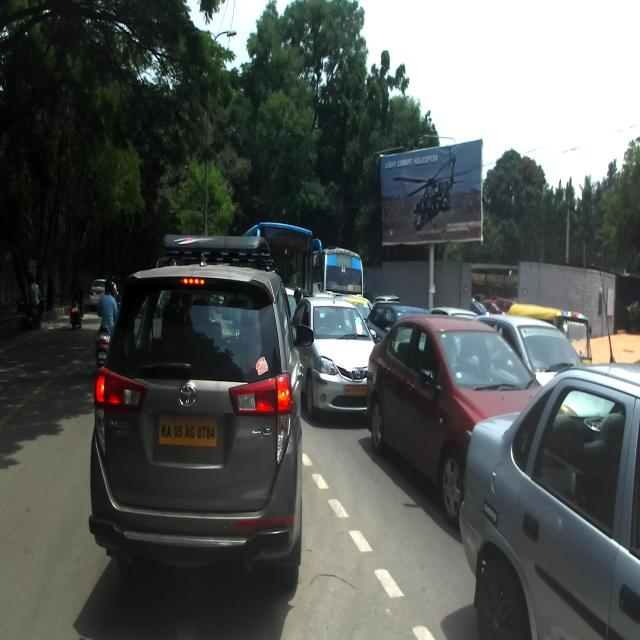car ahead at: (91, 265, 304, 577), (465, 370, 640, 640), (360, 313, 480, 507)
